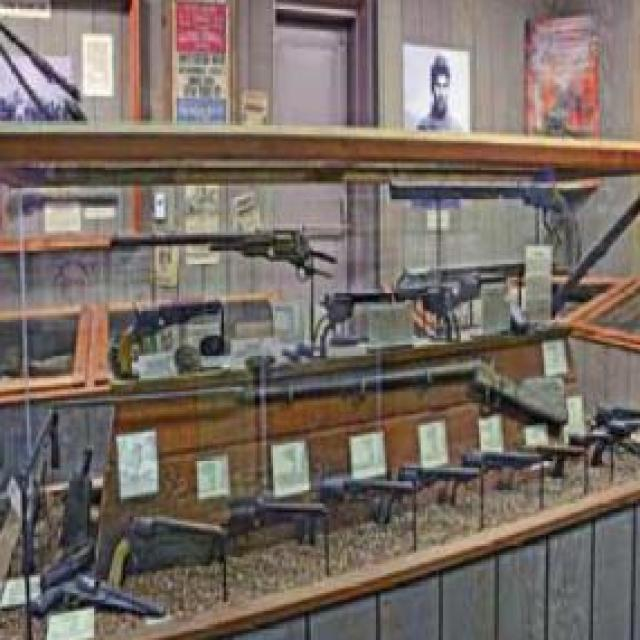pistol: (106, 486, 237, 614), (310, 448, 407, 588), (215, 472, 329, 590), (377, 425, 477, 551), (299, 255, 405, 367), (442, 434, 541, 529), (595, 380, 640, 480)
